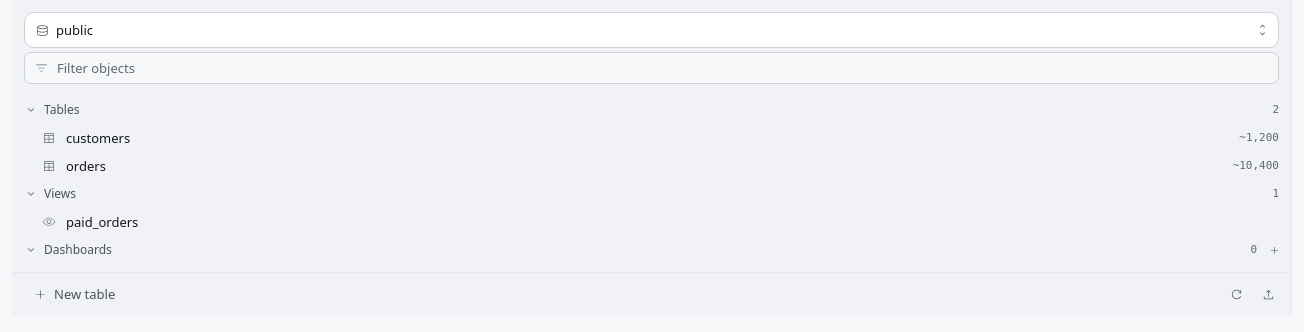
Test: Sidebar › filters objects and says when nothing matches
Step 1. Type "paid" into the field labelled "Filter objects" → (652, 68), box [24,52,1279,84]
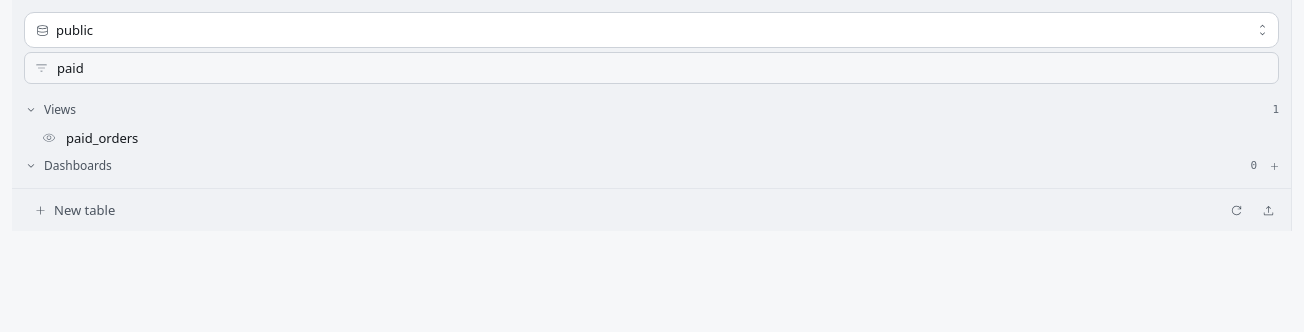
Expected: the button with aria-label "Views (1)" is shown, [12,96,1291,124]
Expected: the button "Tables" is gone
Step 2. Replace the text in the field named "Filter objects" with "zzz" → (652, 68), box [24,52,1279,84]
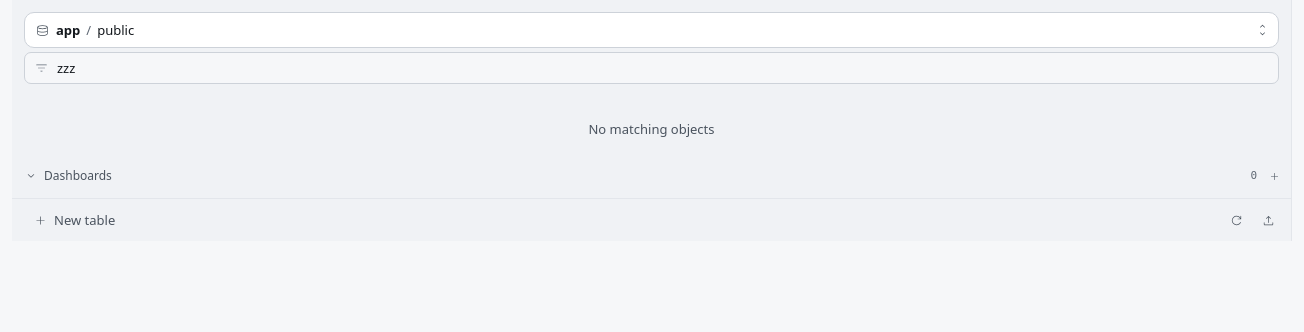
Expected: the text "No matching objects" is shown, [588,120,714,138]
